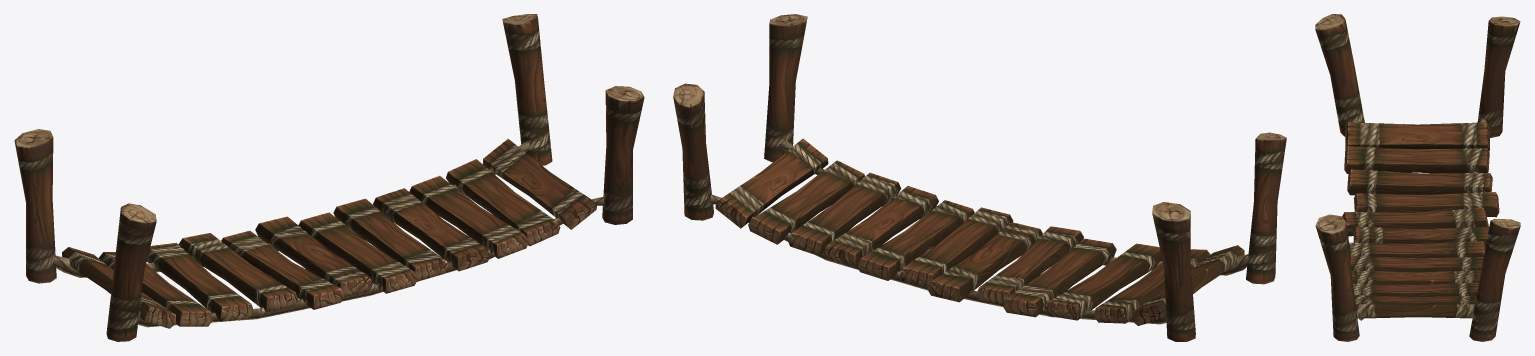
The model's file is rope_bridge_example_02.fbx.
3 renders of one model, left to right at view 1: azimuth 30°, elevation 25°; view 2: azimuth 150°, elevation 25°; view 3: azimuth 270°, elevation 25°, orthographic. The views are drawn at different scales.
Visible parts, largest first — view 1: rope_bridge_example_02; view 2: rope_bridge_example_02; view 3: rope_bridge_example_02.
Boxes of the visible parts, bbox=[...] form: rope_bridge_example_02: bbox=[14, 14, 644, 341]; rope_bridge_example_02: bbox=[673, 14, 1286, 341]; rope_bridge_example_02: bbox=[1315, 14, 1520, 341].
Size of the model in its own units: 467 by 137 by 187.
